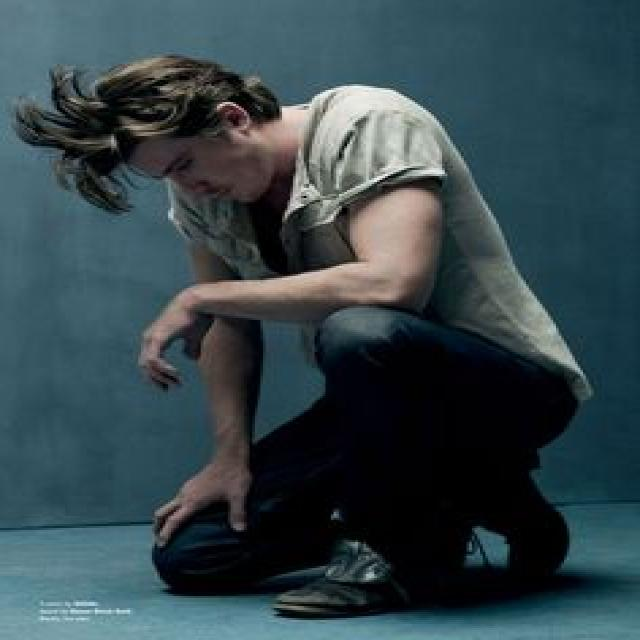9_cabeza_baja: (76, 55, 318, 206)
